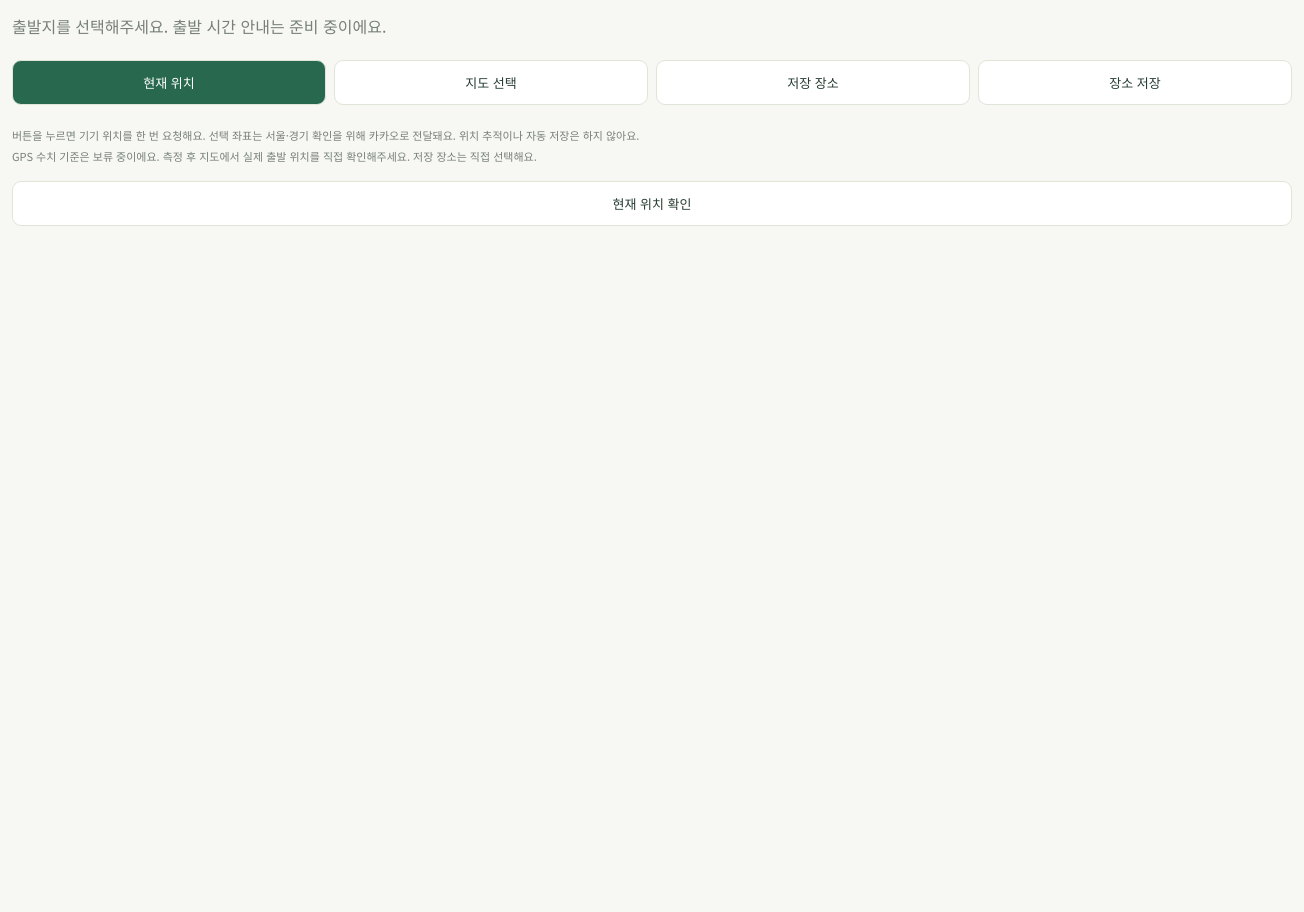
Test case: method change and unmount abort GPS and ignore late results
This screenshot has width=1304, height=912.
Step 1. Click the button "현재 위치 확인" → [652, 203], box [12,181,1292,226]
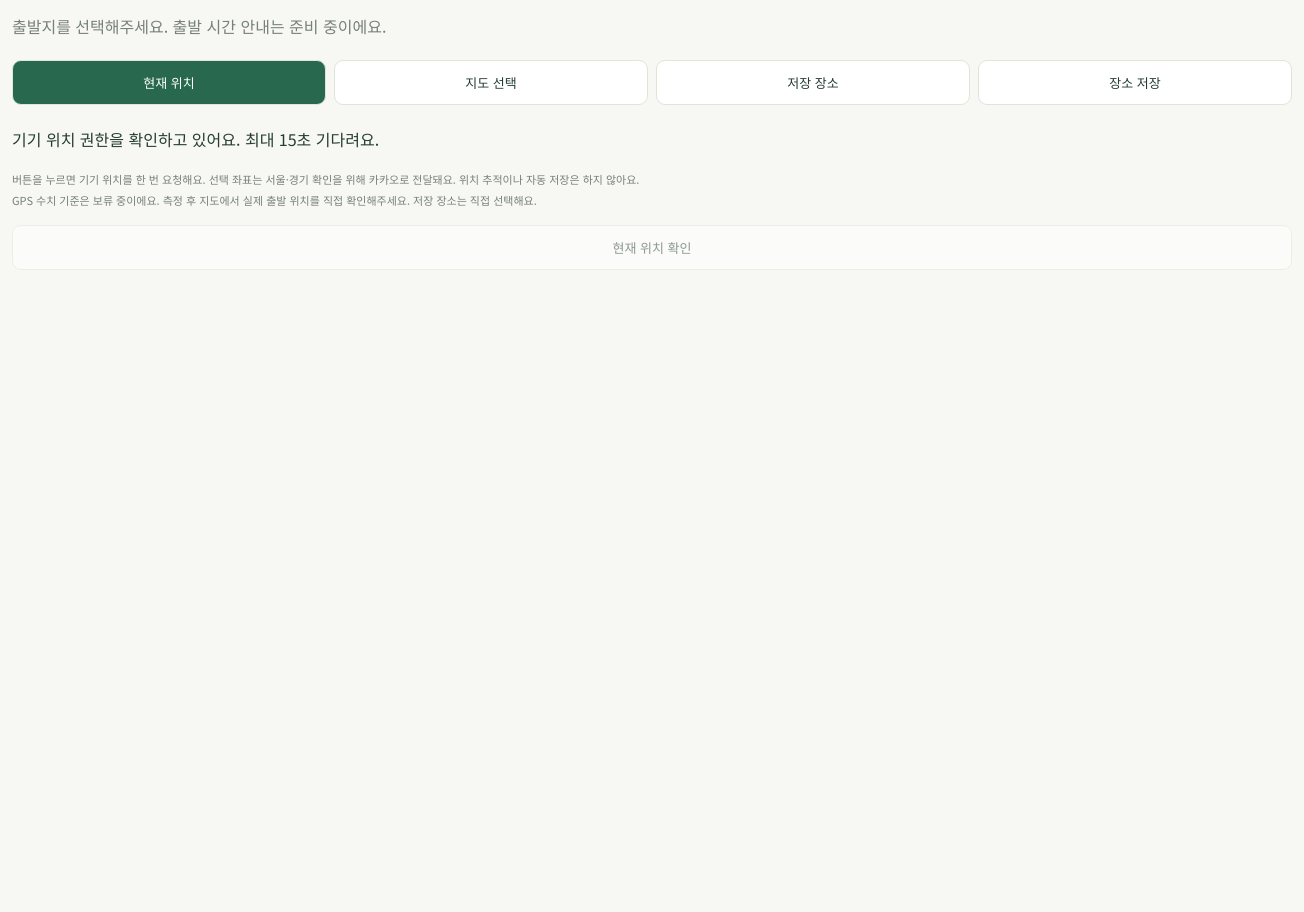
Step 2. Click the button "지도 선택" → [491, 82], box [334,60,648,105]
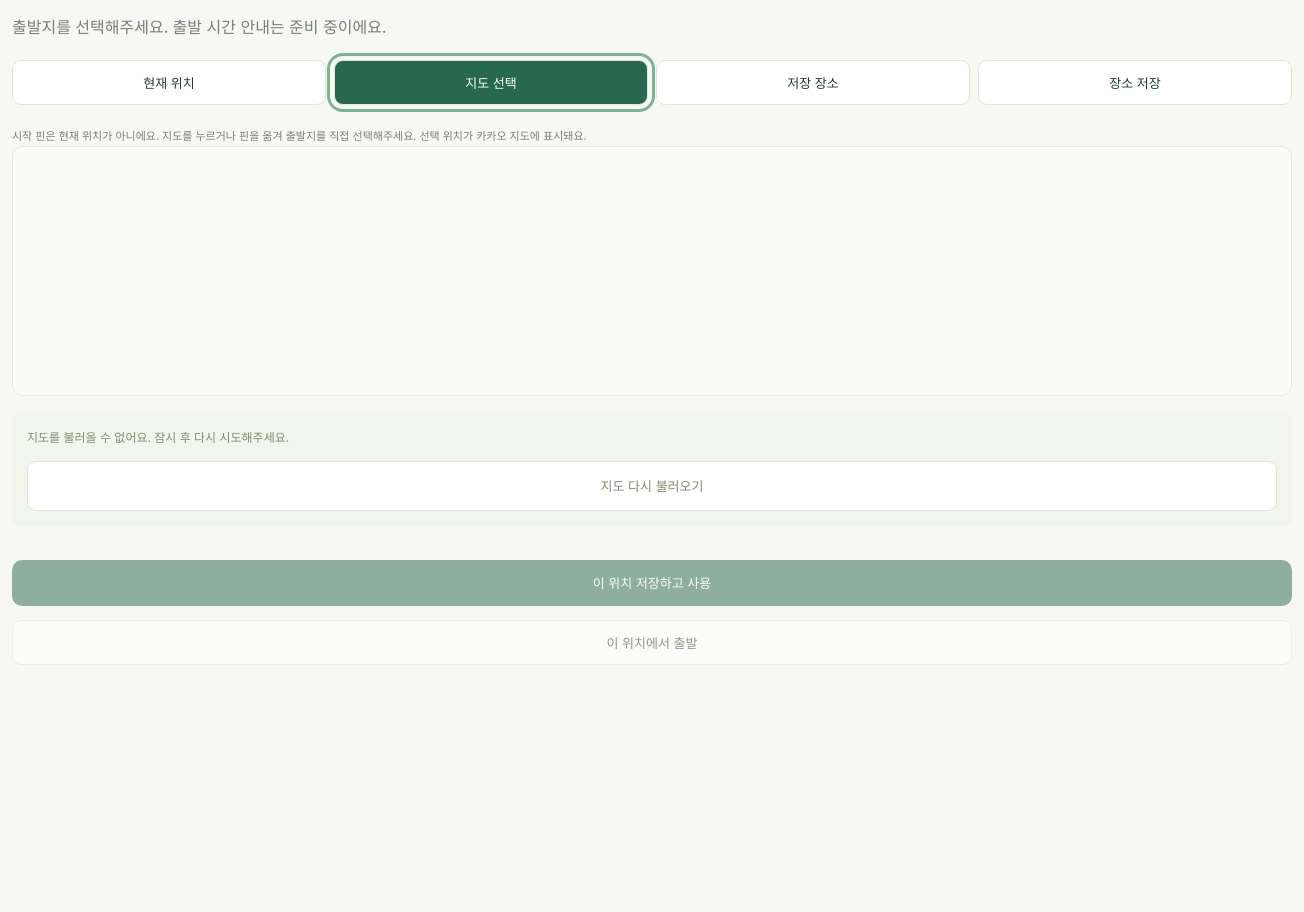
Result: the button "이 위치에서 출발" is disabled at [12,620,1292,665]
